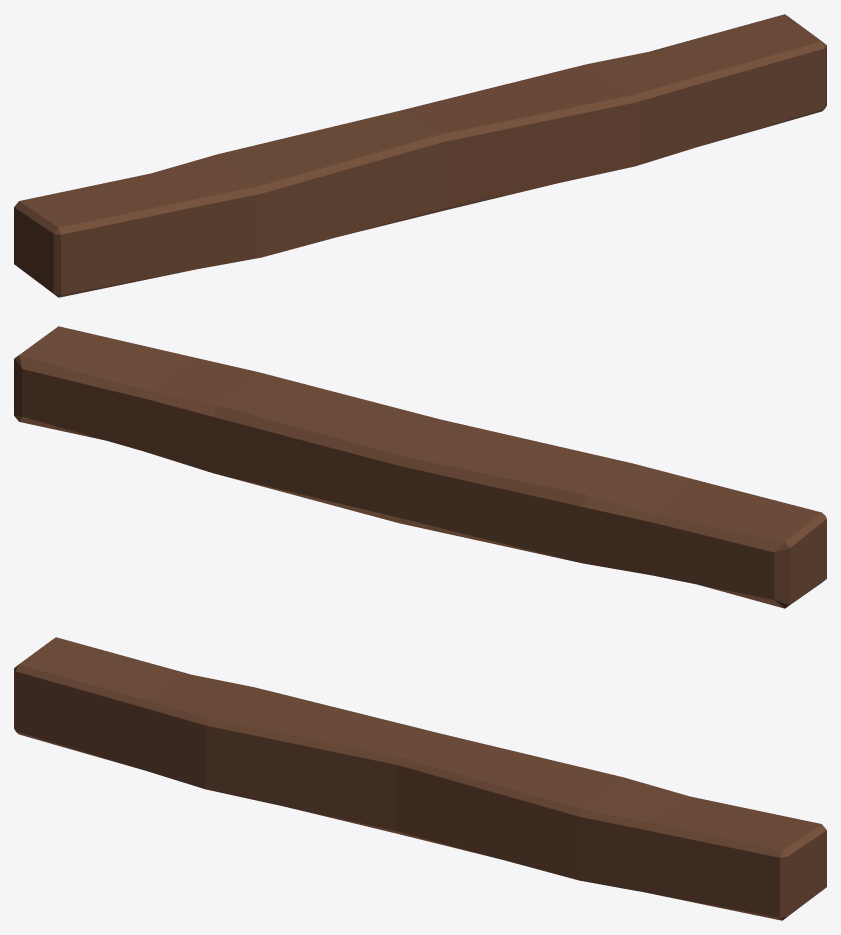
File: WoodenBeam.fbx
3 views of the same model, one above another, from view 1: azimuth 30°, elevation 25°; view 2: azimuth 150°, elevation 25°; view 3: azimuth 330°, elevation 25° (orthographic).
Parts seen in each view (by area): view 1: WoodenBeam; view 2: WoodenBeam; view 3: WoodenBeam.
Boxes of the visible parts, x1,y1,x2,y2 form: WoodenBeam: (14,14,826,297); WoodenBeam: (14,326,826,608); WoodenBeam: (14,637,826,920).
Size of the model in its own units: 290 by 27.32 by 33.91.
Materials: 1 (1 with a texture image).
